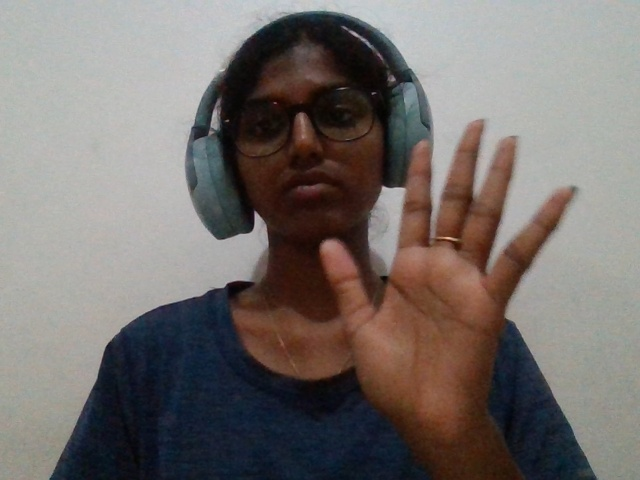Bye: (320, 86, 640, 467)
